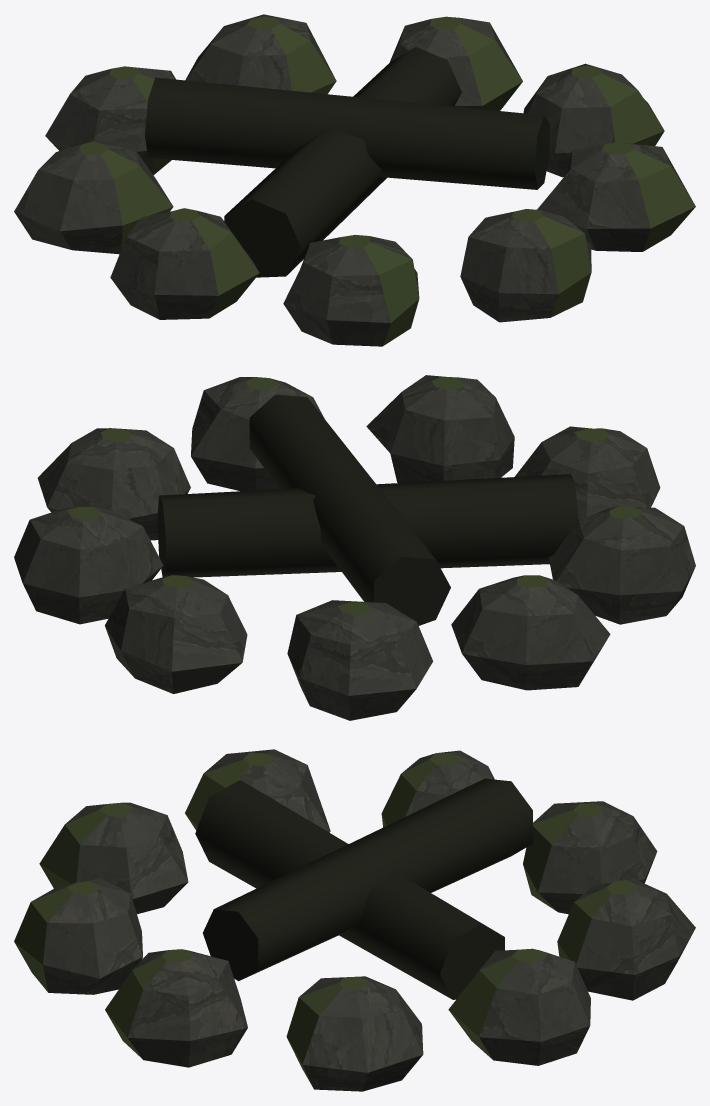
The picture shows the model from 3 angles, top to bottom: view 1: azimuth 30°, elevation 25°; view 2: azimuth 150°, elevation 25°; view 3: azimuth 270°, elevation 25°; orthographic projection. The views are drawn at different scales.
Visible parts, largest first — view 1: Weathered faceted boulder; view 2: Weathered faceted boulder; view 3: Weathered faceted boulder.
Part boxes in pixels (x1,y1,x2,y2): Weathered faceted boulder: (14,14,695,346); Weathered faceted boulder: (14,375,695,720); Weathered faceted boulder: (14,749,695,1091).
Size of the model in its own units: 2.29 by 0.404 by 2.25.
Materials: 3 (1 with a texture image).
